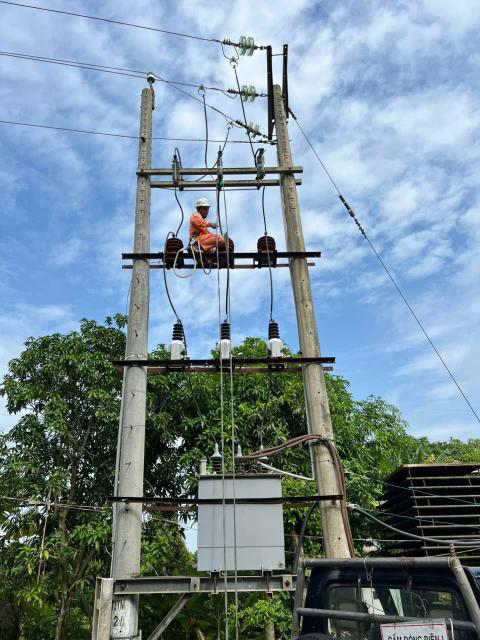gloves: (207, 220, 220, 230)
harness: (187, 233, 211, 239)
helmet: (195, 196, 214, 210)
shoes: (190, 243, 203, 254)
